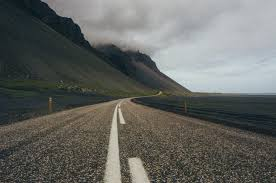strada: (1, 100, 276, 183)
